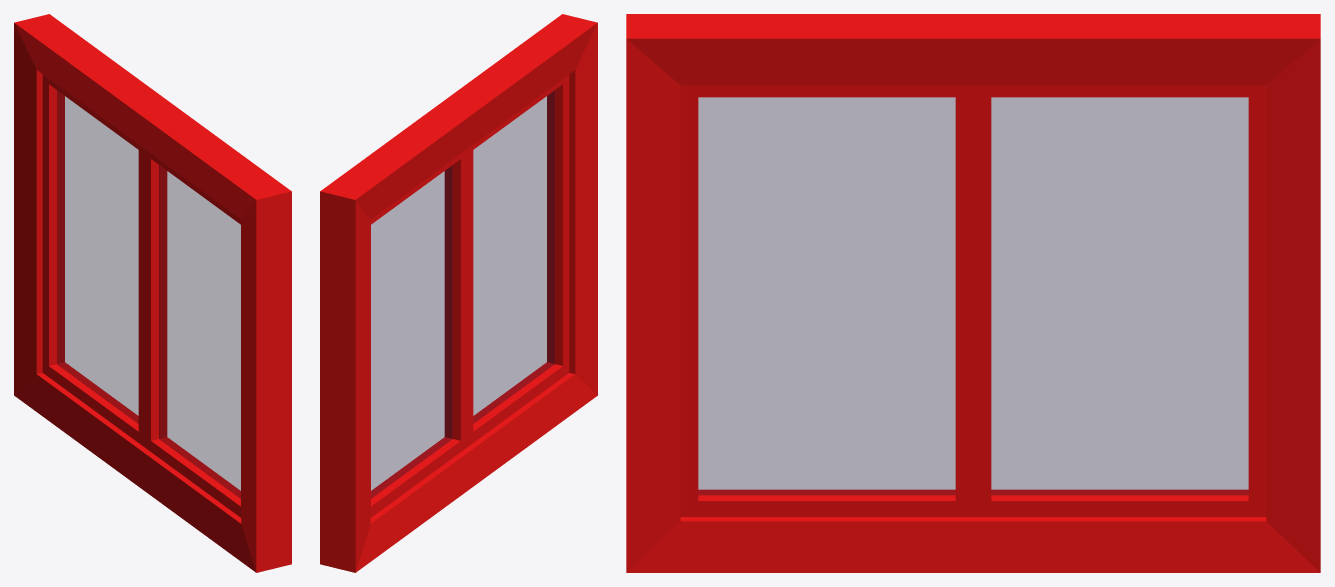
Rendered from Window.FBX.
3 renders of one model, left to right at view 1: azimuth 30°, elevation 25°; view 2: azimuth 150°, elevation 25°; view 3: azimuth 270°, elevation 25°, orthographic. The views are drawn at different scales.
Parts seen in each view (by area): view 1: Box004; view 2: Box004; view 3: Box004.
Boxes of the visible parts, bbox=[...] form: Box004: bbox=[14, 14, 291, 572]; Box004: bbox=[320, 14, 597, 572]; Box004: bbox=[626, 14, 1320, 572].
Bounding box in the file's own units: 4.28 × 43.21 × 50.88.
